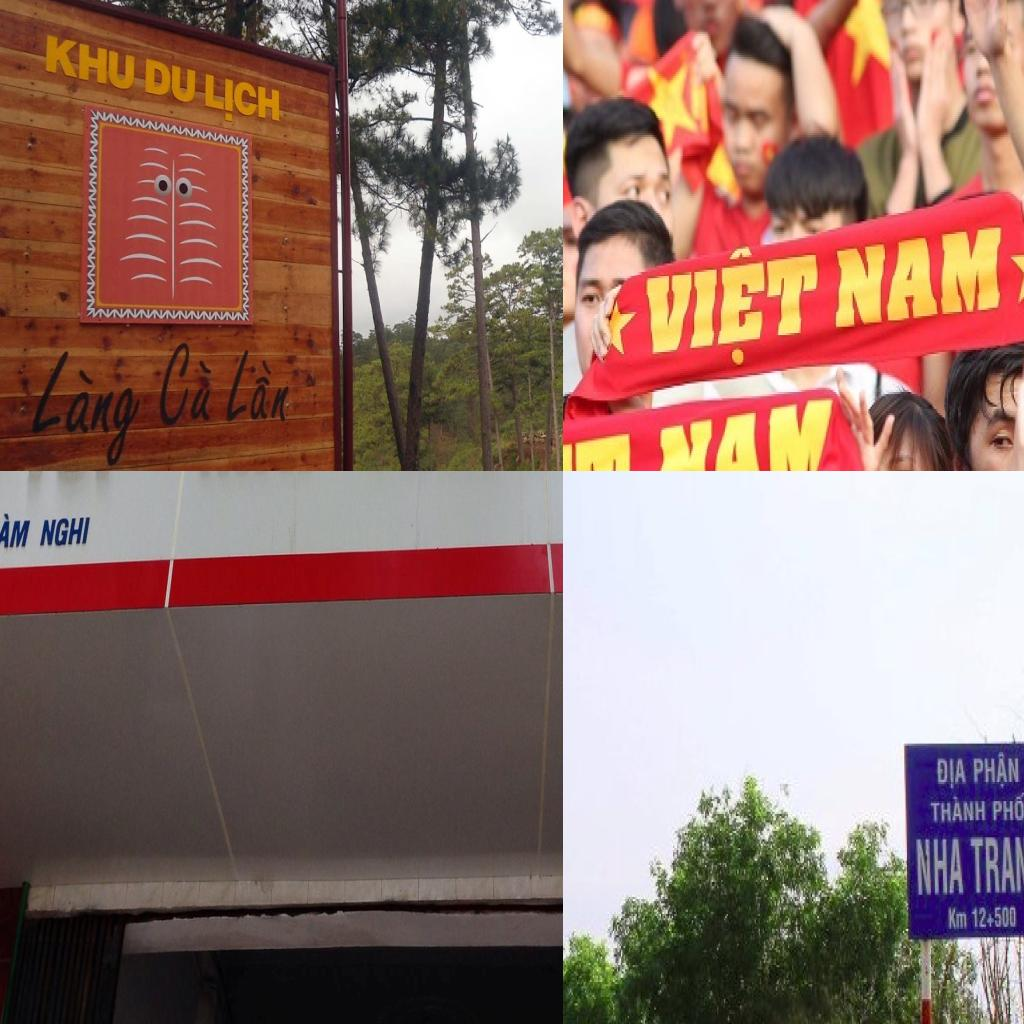text: (641, 234, 822, 381), (826, 213, 1006, 333), (24, 343, 150, 471), (222, 340, 297, 428), (44, 31, 137, 94), (156, 338, 219, 431), (203, 72, 282, 133), (970, 835, 1024, 896), (914, 837, 966, 899), (144, 53, 198, 107), (37, 510, 95, 554), (0, 504, 35, 559), (928, 794, 988, 826), (972, 752, 1020, 791), (935, 756, 970, 792), (992, 792, 1024, 824), (947, 906, 969, 933)
